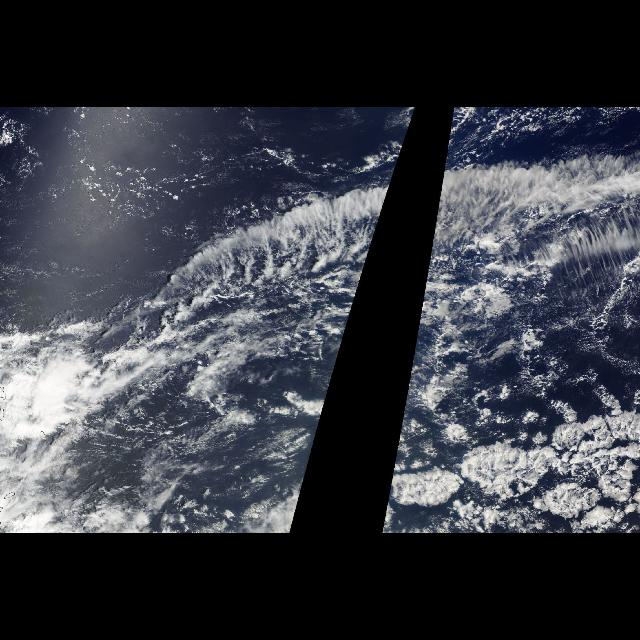Flower: (382, 393, 638, 532), (253, 393, 329, 532)
Sugar: (2, 110, 274, 298)
